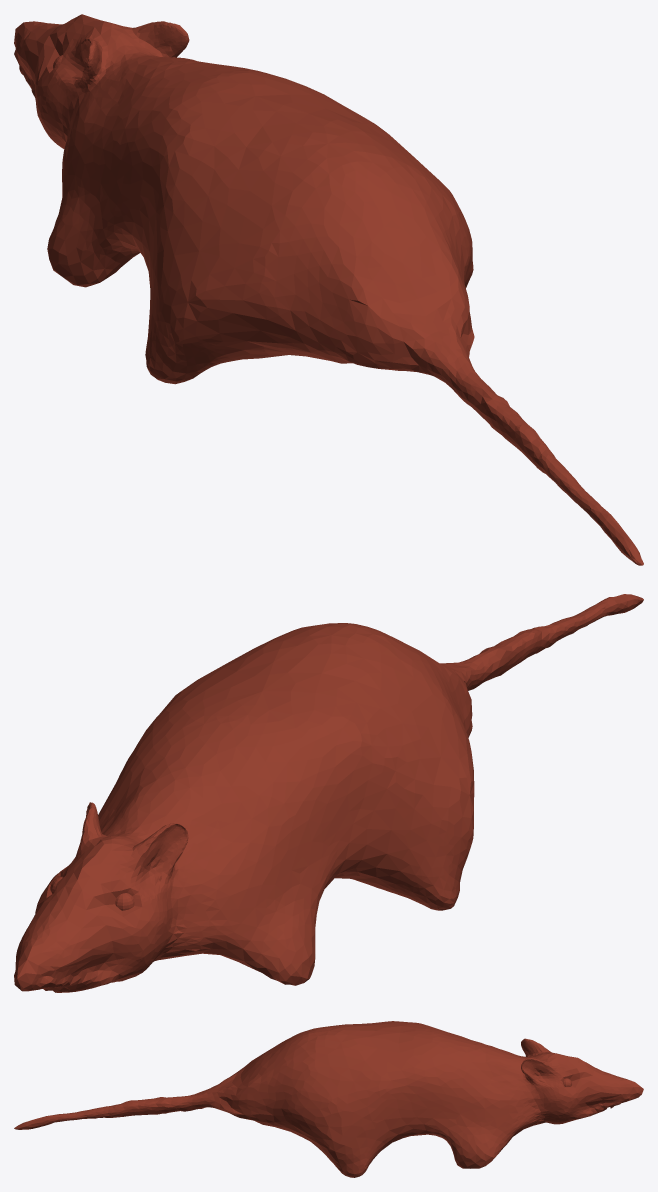
Rendered from Rattwo.mtl.obj.
3 renders of one model, top to bottom at view 1: azimuth 30°, elevation 25°; view 2: azimuth 150°, elevation 25°; view 3: azimuth 270°, elevation 25°, orthographic. The views are drawn at different scales.
Parts seen in each view (by area): view 1: Sphere; view 2: Sphere; view 3: Sphere.
Part boxes in pixels (x1,y1,x2,y2): Sphere: (14, 14, 643, 565); Sphere: (14, 594, 643, 992); Sphere: (14, 1021, 643, 1177).
Bounding box in the file's own units: 1.97 × 1.39 × 7.03.
